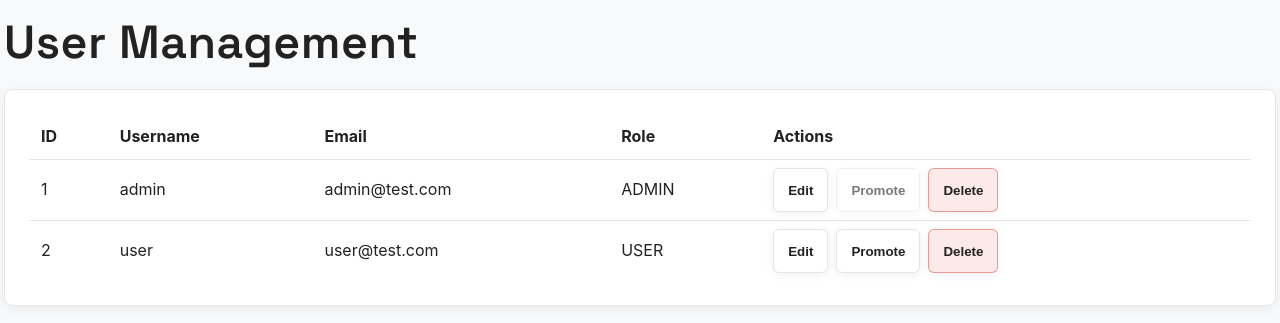
AdminUsers › should allow promoting a user
This screenshot has width=1280, height=323.
Expected: the text "user@test.com" is shown, [312,220,609,281]
Click the button "Promote" in the row of "user@test.com".
click(878, 251)  # box [836,229,920,273]
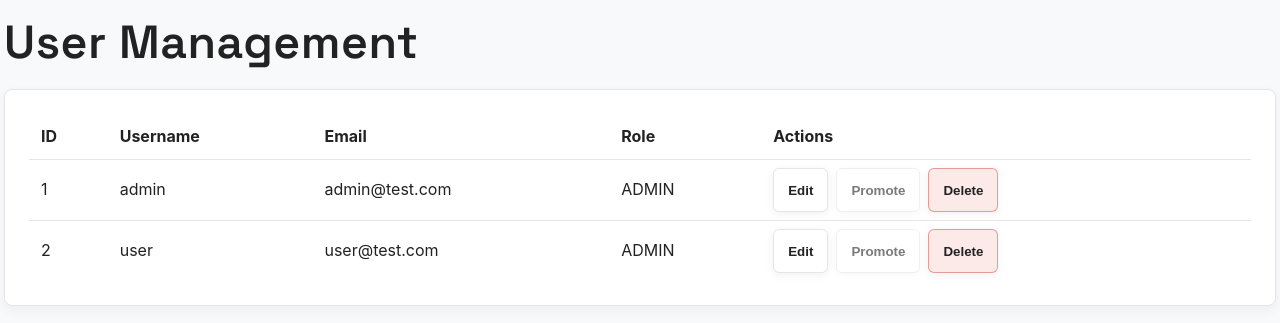
Expected: the text "ADMIN" in the row of "user@test.com" is shown, [621,240,675,260]
